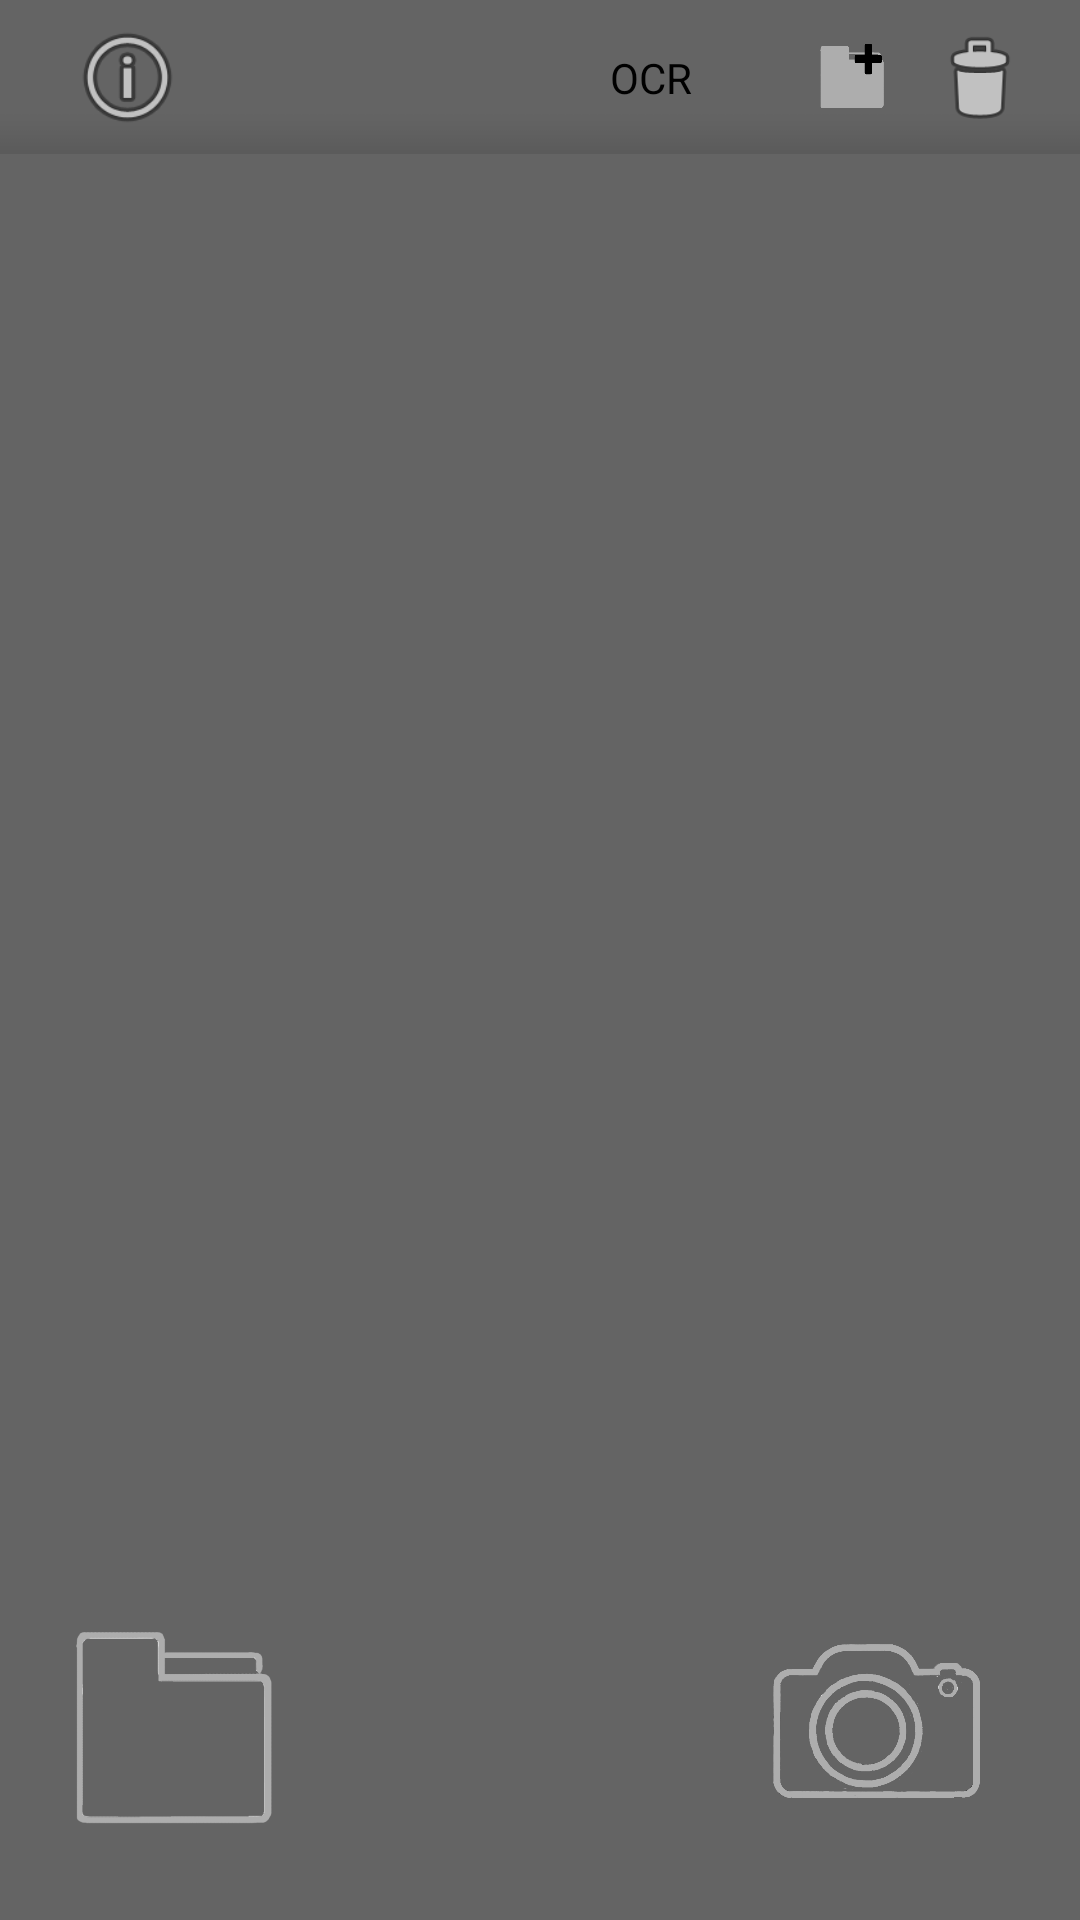

Screen size 1080w x 1920h. Icon name, then its box in pixels as (x1, y1, x2, y2):
delete: (951, 37, 1009, 118)
info details: (84, 34, 171, 121)
